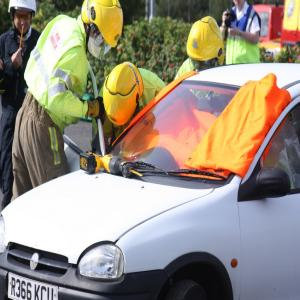Vehicle-registration-plate: (9, 273, 58, 300)
